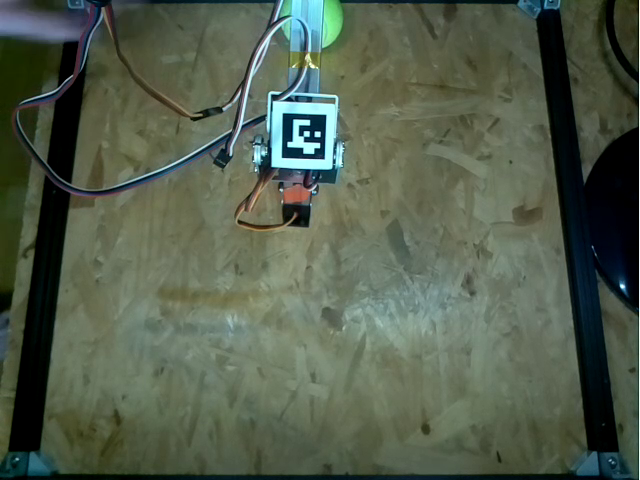tennis_ball: (279, 1, 344, 49)
